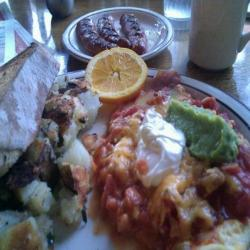bread: (1, 50, 54, 159)
